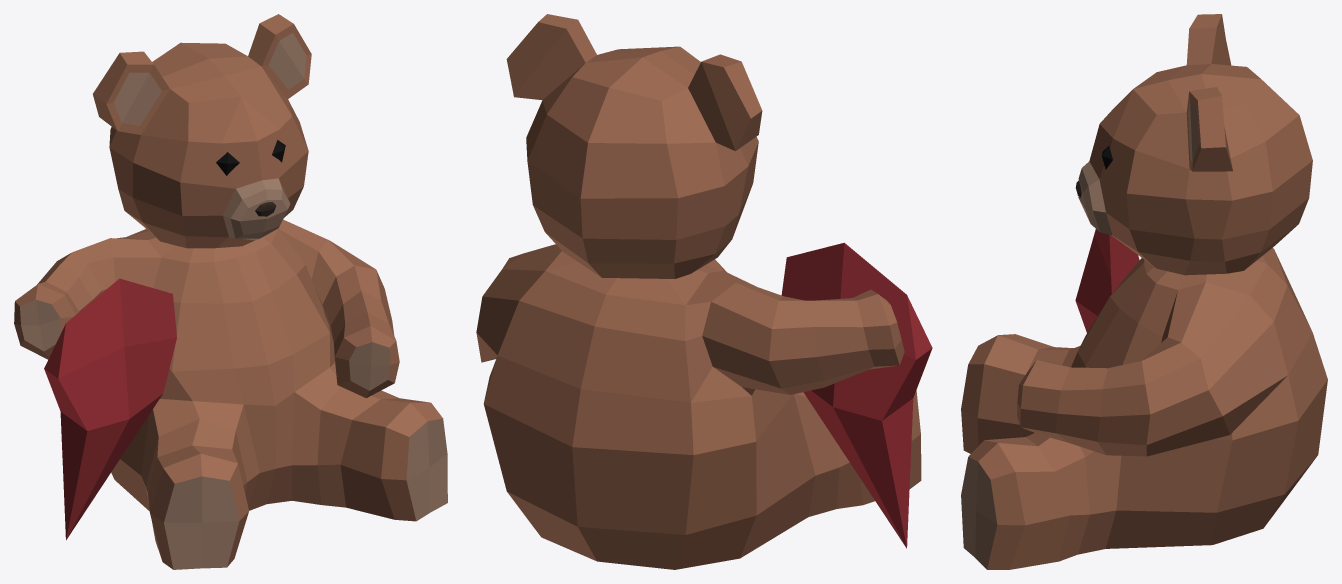
Rendered from Heart_bear_R.fbx.
The picture shows the model from 3 angles, left to right: view 1: azimuth 30°, elevation 25°; view 2: azimuth 150°, elevation 25°; view 3: azimuth 270°, elevation 25°; orthographic projection. The views are drawn at different scales.
Visible parts, largest first — view 1: HeartBear_R; view 2: HeartBear_R; view 3: HeartBear_R.
Part boxes in pixels (left/top/right/bottom): HeartBear_R: left=14, top=14, right=447, bottom=569; HeartBear_R: left=476, top=14, right=932, bottom=569; HeartBear_R: left=961, top=14, right=1327, bottom=569.
Size of the model in its own units: 0.2602 by 0.2958 by 0.2197.
